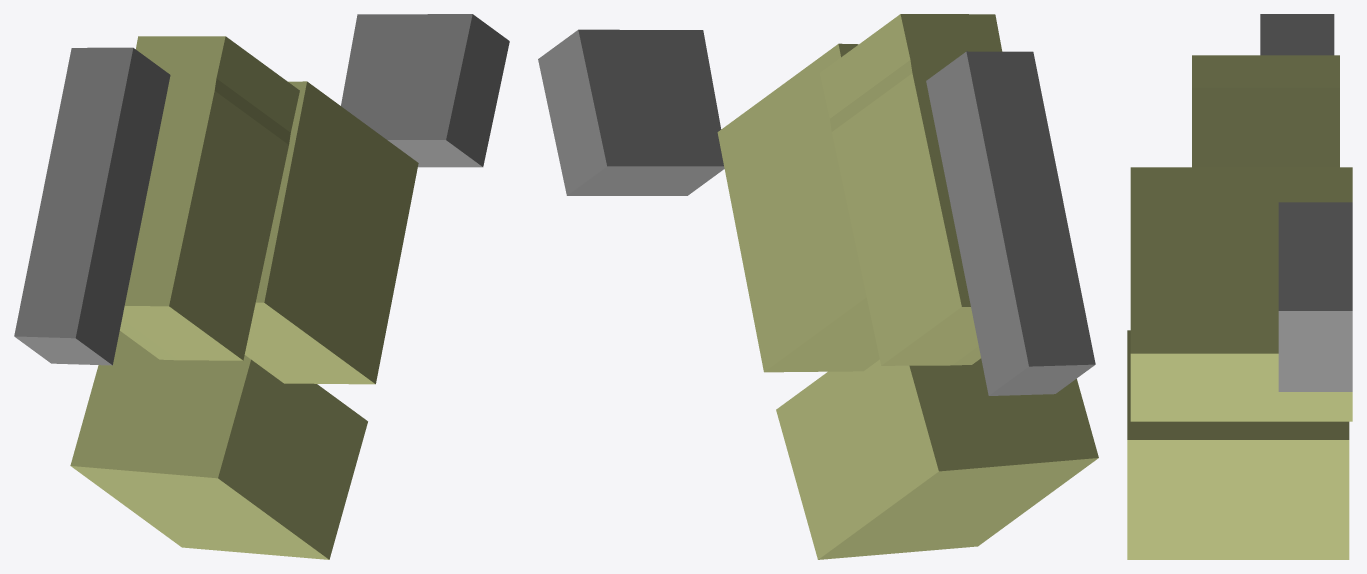
The picture shows the model from 3 angles, left to right: view 1: azimuth 30°, elevation 25°; view 2: azimuth 150°, elevation 25°; view 3: azimuth 270°, elevation 25°; orthographic projection. The views are drawn at different scales.
Parts seen in each view (by area): view 1: 0_1_2_0_1_3_0_3_2_2; view 2: 0_1_2_0_1_3_0_3_2_2; view 3: 0_1_2_0_1_3_0_3_2_2.
Boxes of the visible parts, x1,y1,x2,y2 form: 0_1_2_0_1_3_0_3_2_2: (14, 14, 509, 559); 0_1_2_0_1_3_0_3_2_2: (538, 14, 1098, 559); 0_1_2_0_1_3_0_3_2_2: (1127, 14, 1352, 559).
Bounding box in the file's own units: 21.8 × 21.08 × 9.14.
